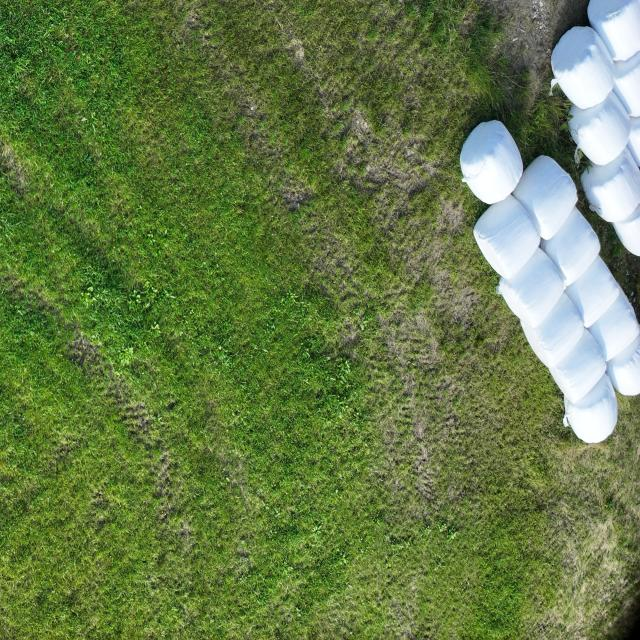rumex: (123, 204, 248, 333), (126, 279, 165, 315), (330, 356, 356, 406), (114, 339, 139, 368), (432, 521, 458, 540), (151, 322, 160, 332), (439, 523, 448, 532), (359, 322, 366, 332), (86, 286, 94, 293), (134, 296, 140, 304), (132, 290, 138, 297), (80, 117, 88, 122)
